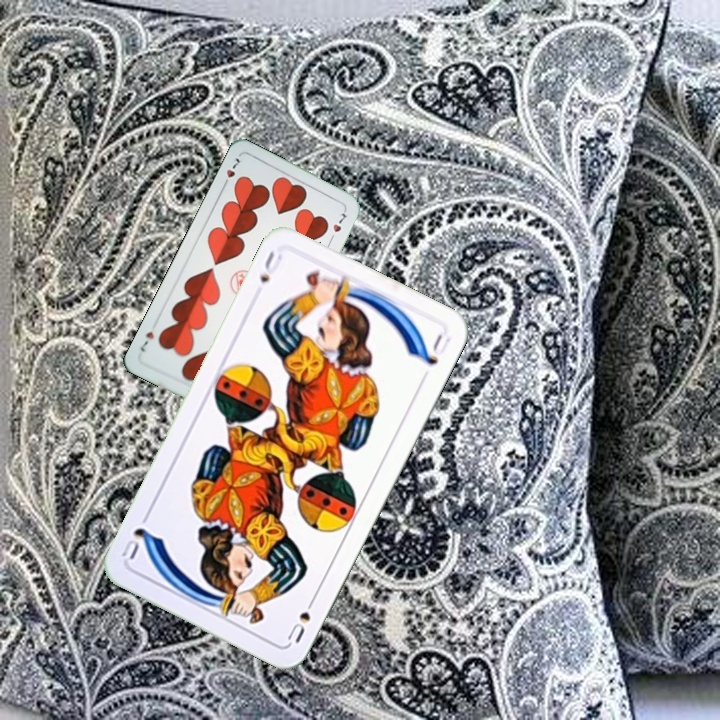H7: (218, 153, 242, 190)
SU: (283, 591, 319, 646), (255, 247, 285, 285)
